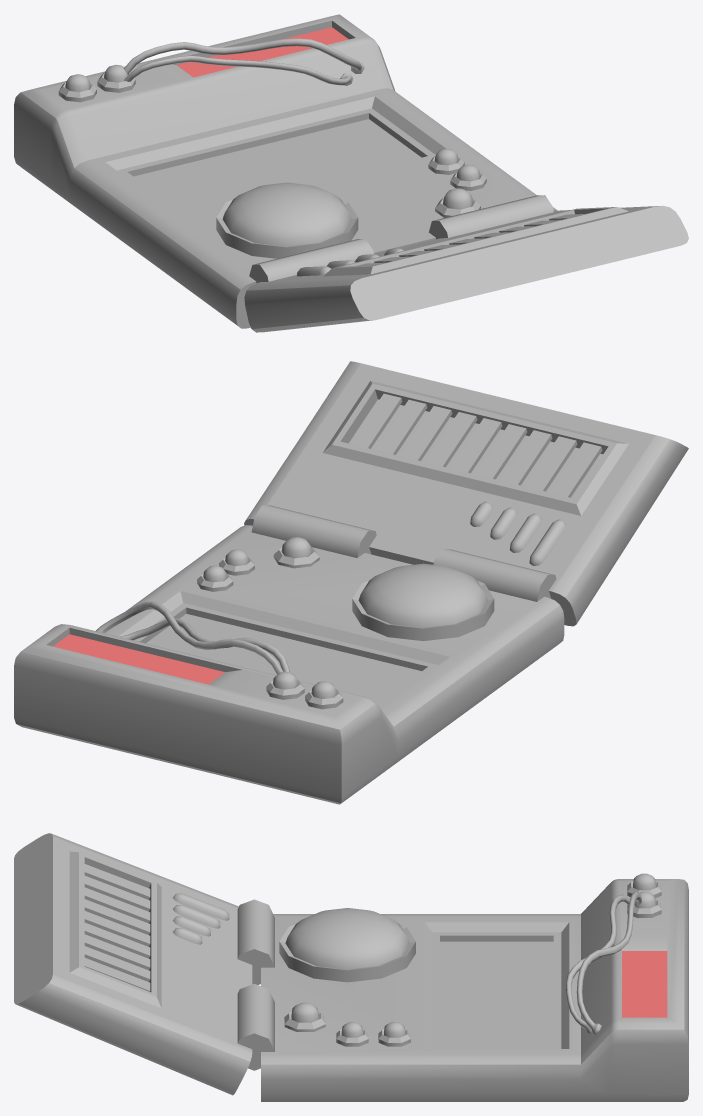
File: General_Scanner.FBX
The picture shows the model from 3 angles, top to bottom: view 1: azimuth 30°, elevation 25°; view 2: azimuth 150°, elevation 25°; view 3: azimuth 270°, elevation 25°; orthographic projection. The views are drawn at different scales.
Parts seen in each view (by area): view 1: ScannerBody, ScannerScreen2, ScannerScreen1; view 2: ScannerBody, ScannerScreen2, ScannerScreen1; view 3: ScannerBody, ScannerScreen2, ScannerScreen1.
Boxes of the visible parts, x1,y1,x2,y2 form: ScannerBody: (14,14,688,332); ScannerScreen2: (134,119,421,214); ScannerScreen1: (176,27,348,77); ScannerBody: (14,361,688,804); ScannerScreen2: (146,613,421,703); ScannerScreen1: (53,634,224,684); ScannerBody: (14,833,688,1101); ScannerScreen2: (440,941,553,1048); ScannerScreen1: (622,951,667,1017).
Size of the model in its own units: 23.54 by 8.77 by 43.63.
